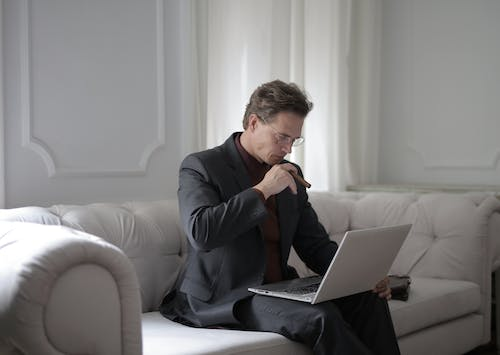cigarette: (290, 169, 313, 189)
